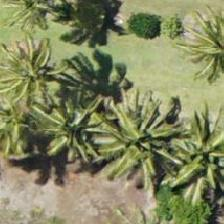coconut_tree: (93, 96, 183, 186), (33, 80, 123, 170), (0, 28, 73, 118), (0, 75, 63, 165), (162, 106, 223, 196)
